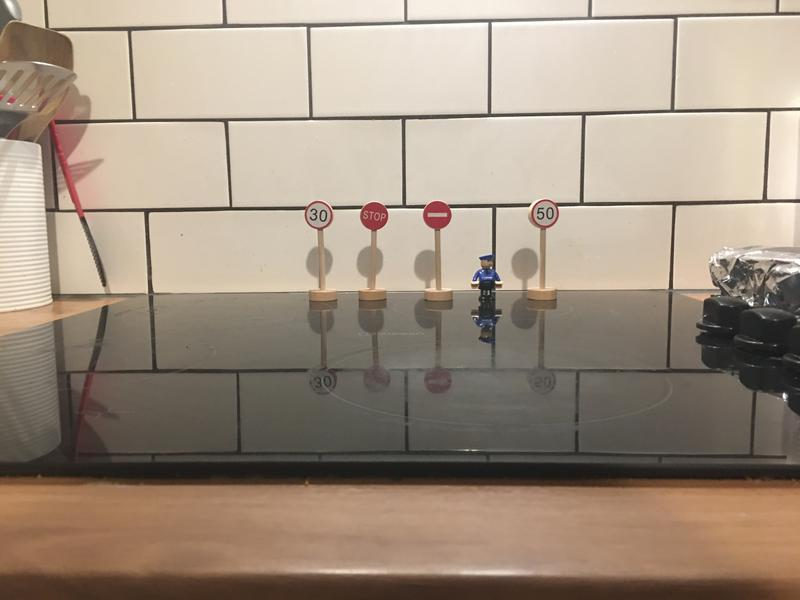Traffic_Sign_30: (305, 202, 333, 229)
Traffic_Sign_50: (529, 199, 560, 229)
Traffic_Sign_No_Entry: (424, 201, 451, 227)
Traffic_Sign_Stop: (361, 203, 388, 230)
person: (469, 255, 505, 305)
